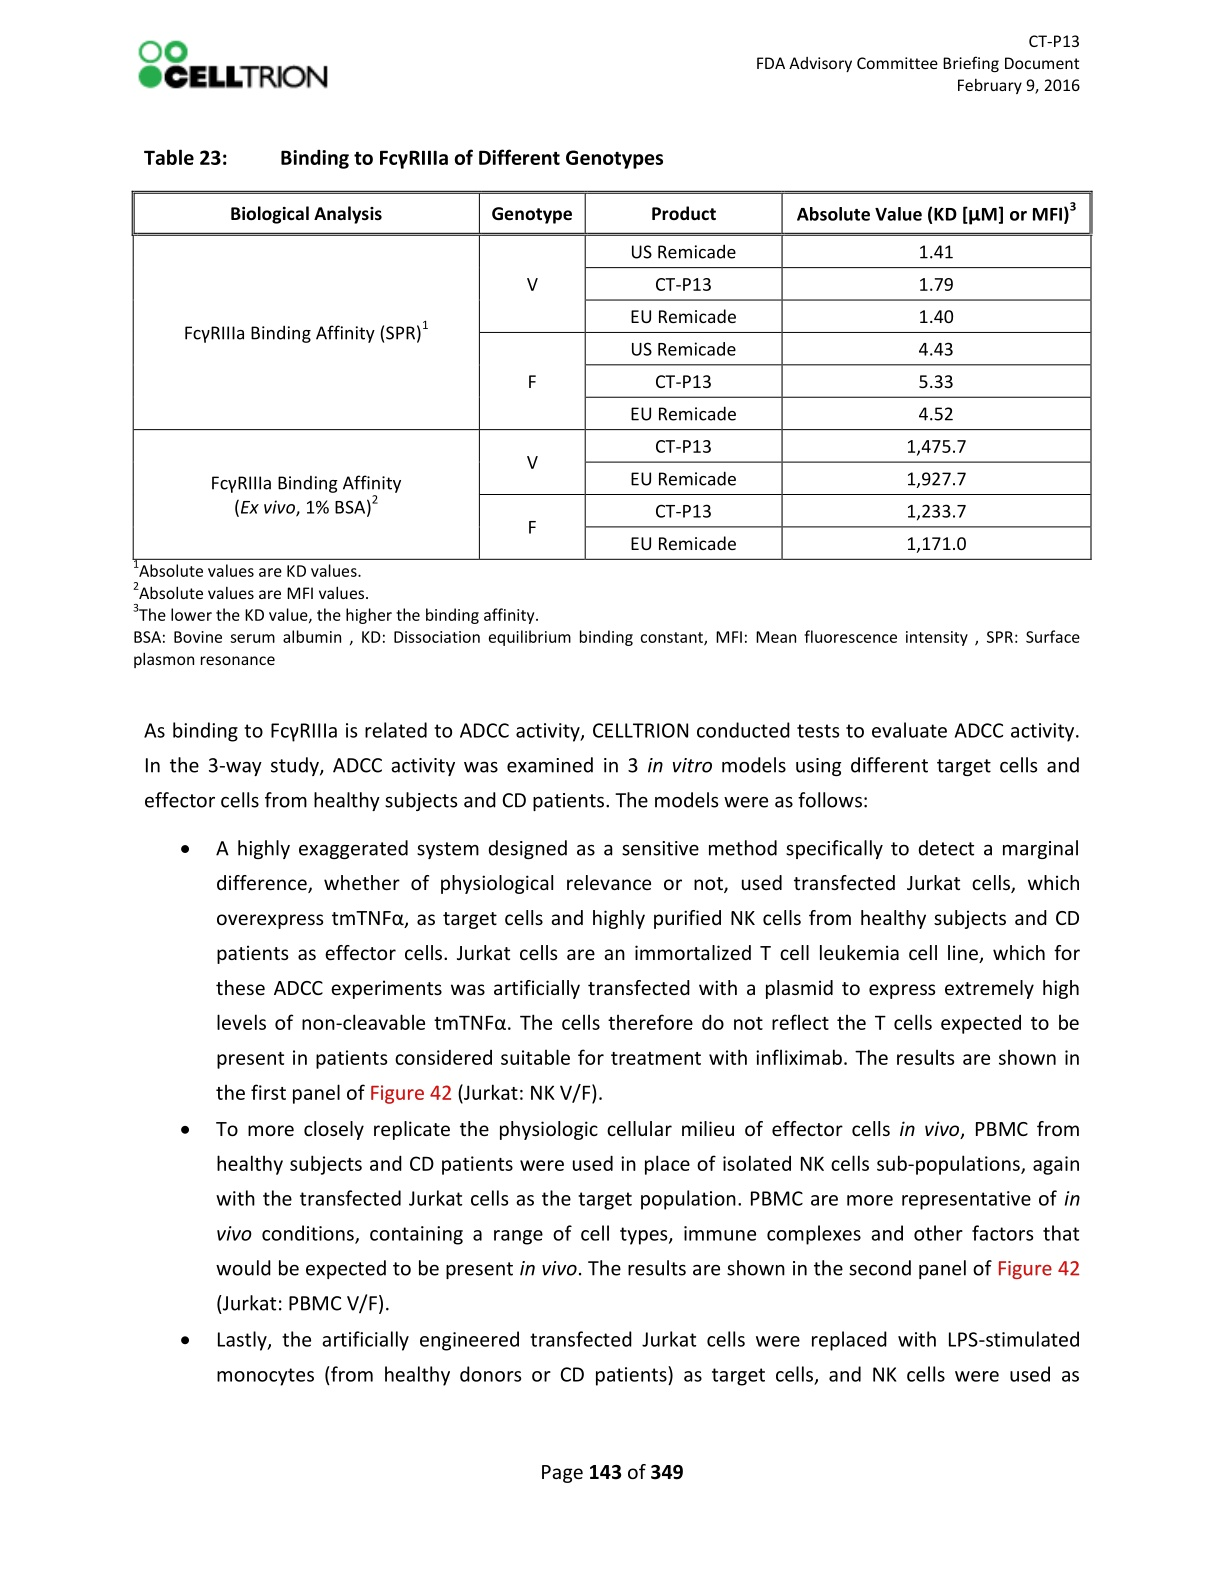merged_cells: (130, 189, 1093, 561)
